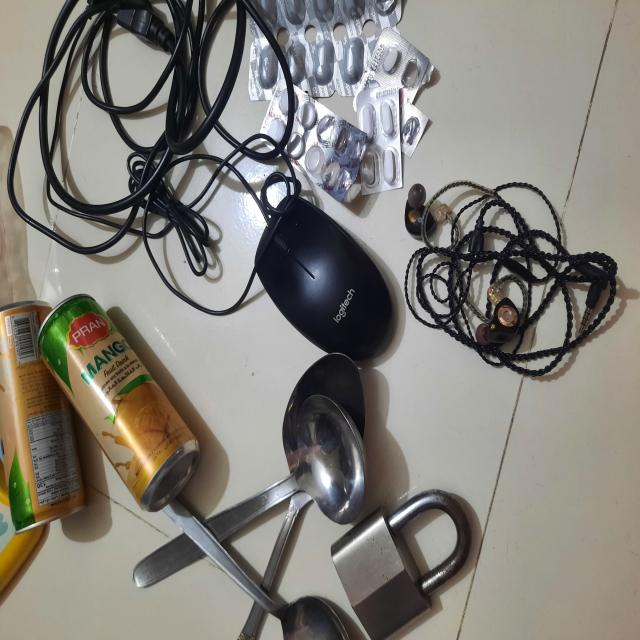Cable: (12, 0, 272, 292), (394, 180, 626, 376)
Medical Waste: (281, 1, 438, 191)
Metal: (204, 372, 505, 640)
can: (0, 298, 202, 552)
